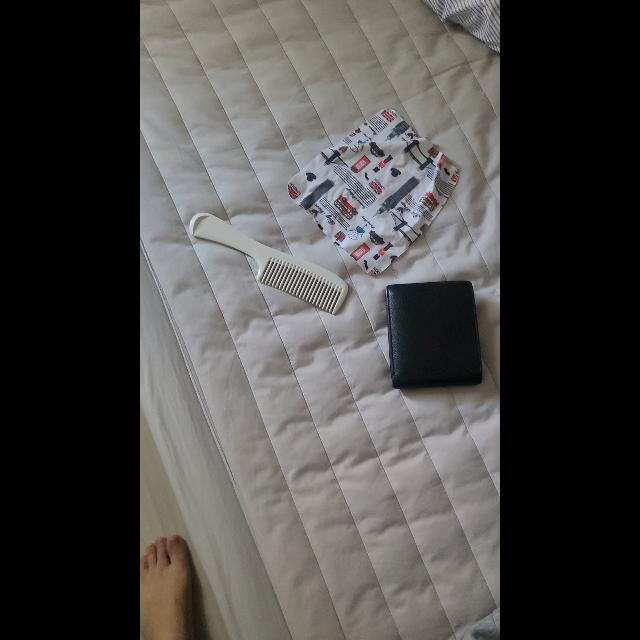COMB: (190, 212, 348, 316)
Glasses cleaning cloth: (286, 108, 459, 276)
WALLET: (386, 280, 482, 390)
